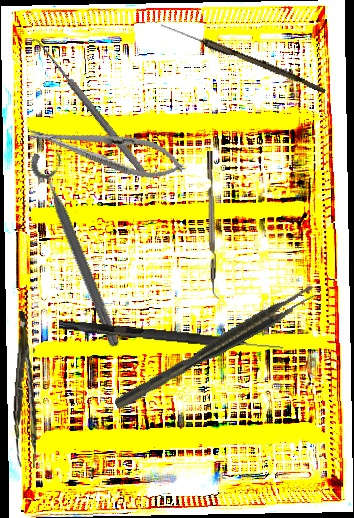Chopper: (206, 150, 223, 300)
Fixation Ring: (26, 143, 137, 351)
Hook Surgical: (26, 34, 150, 183), (58, 320, 285, 352)
Needle Holder: (25, 113, 188, 187)
Surgical Spoon: (159, 21, 328, 94)
Tissue Forceps: (109, 282, 321, 411), (8, 311, 46, 468)
